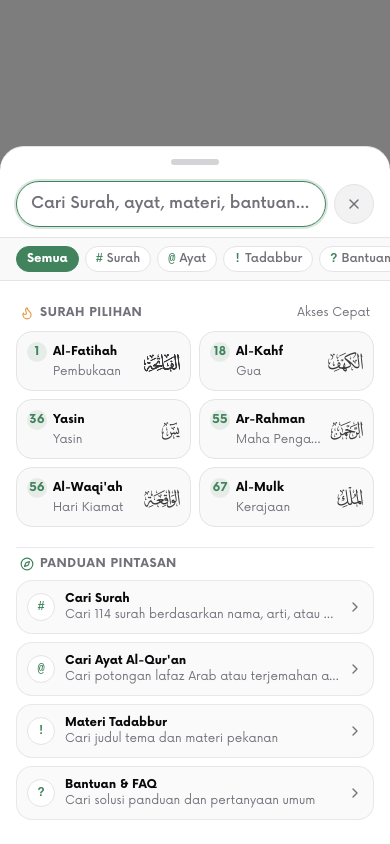
SearchModal.vue › shows empty results state when no items match the query
Type "xyznotfound123" into the field with placeholder "Cari Surah, ayat, materi, bantuan...".
click(171, 204); type("xyznotfound123")  # box [31, 192, 311, 216]
Wait 250 ms
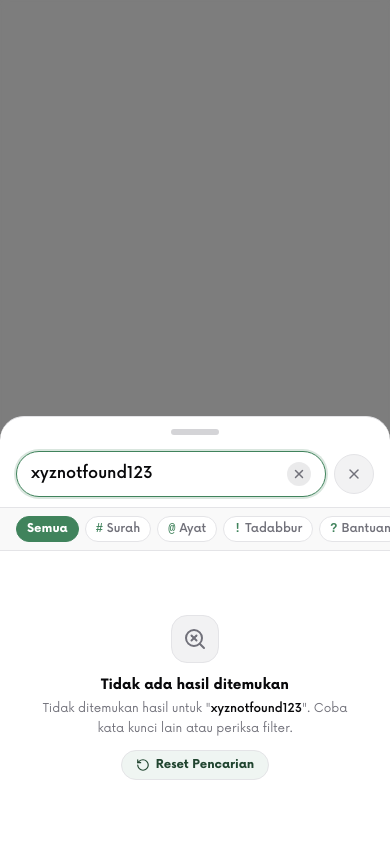
Expected: the text "Tidak ada hasil ditemukan" is shown, [101, 676, 289, 693]
Expected: the text "xyznotfound123" is shown, [211, 701, 302, 716]
